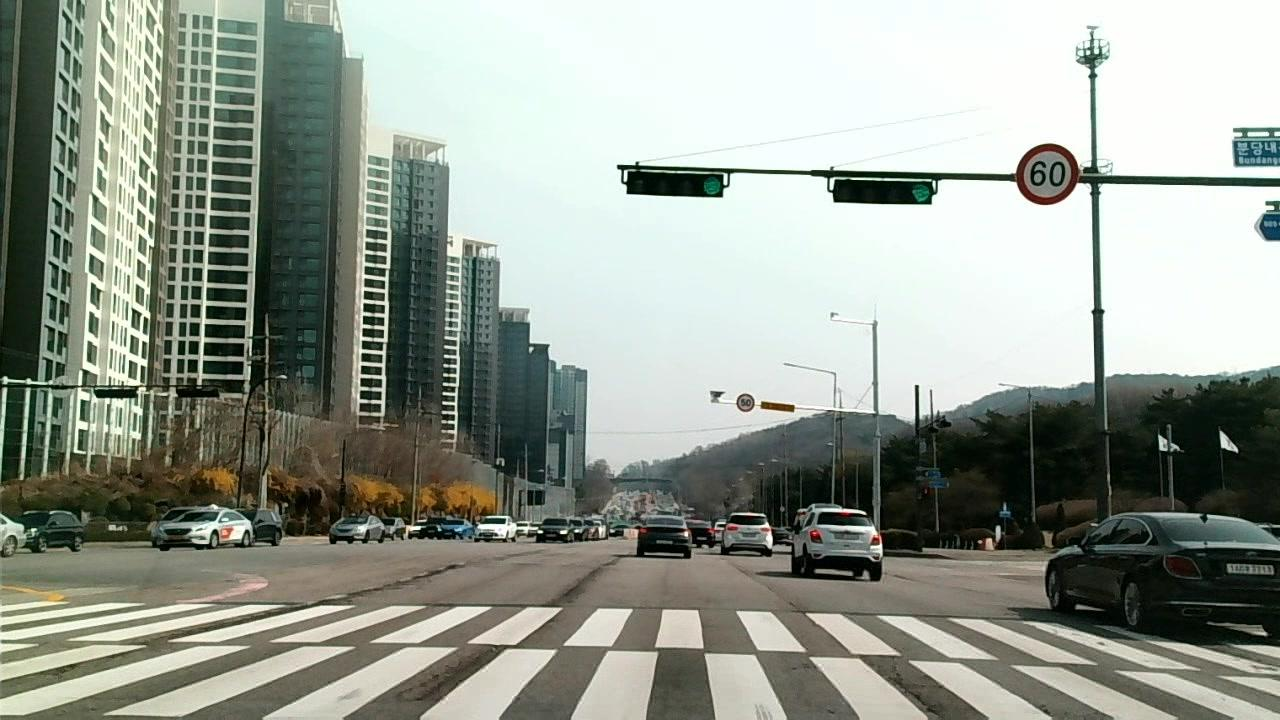erosion: (399, 650, 494, 705)
vcrack: (156, 564, 456, 640), (889, 677, 946, 720)
